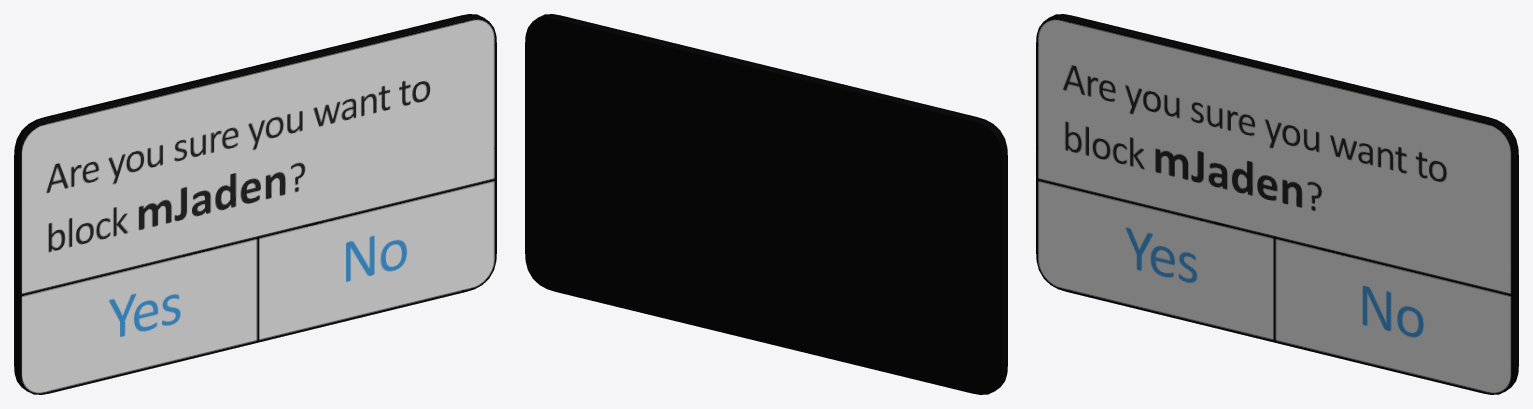
File: OLDEp5_BlockNotification-A.fbx
3 renders of one model, left to right at view 1: azimuth 30°, elevation 25°; view 2: azimuth 150°, elevation 25°; view 3: azimuth 330°, elevation 25°, orthographic.
Parts seen in each view (by area): view 1: BlockNotifications-A; view 2: BlockNotifications-A; view 3: BlockNotifications-A.
Part boxes in pixels (x1,y1,x2,y2): BlockNotifications-A: (14, 14, 496, 394); BlockNotifications-A: (525, 14, 1007, 394); BlockNotifications-A: (1036, 14, 1518, 394).
Size of the model in its own units: 1167 by 636 by 22.62.
